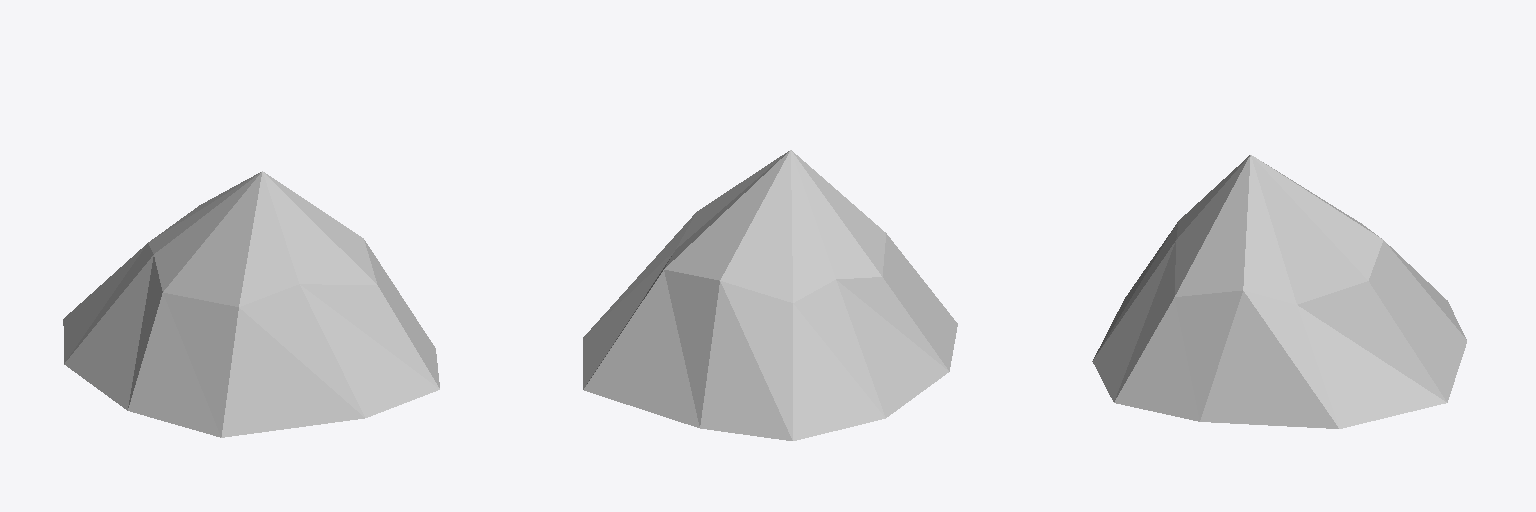
Rendered from mountain.obj.
3 views of the same model, side by side, from view 1: azimuth 30°, elevation 25°; view 2: azimuth 150°, elevation 25°; view 3: azimuth 270°, elevation 25° (orthographic).
Parts seen in each view (by area): view 1: Cone.001_Cone.002, Cone.002_Cone.004; view 2: Cone.001_Cone.002, Cone.002_Cone.004; view 3: Cone.001_Cone.002, Cone.002_Cone.004.
Part boxes in pixels (x1,y1,x2,y2): Cone.001_Cone.002: (63,240,439,437); Cone.002_Cone.004: (148,171,376,306); Cone.001_Cone.002: (583,213,957,440); Cone.002_Cone.004: (664,150,885,302); Cone.001_Cone.002: (1092,221,1466,428); Cone.002_Cone.004: (1175,155,1382,304).
Bounding box in the file's own units: 1.73 × 1.04 × 1.82.